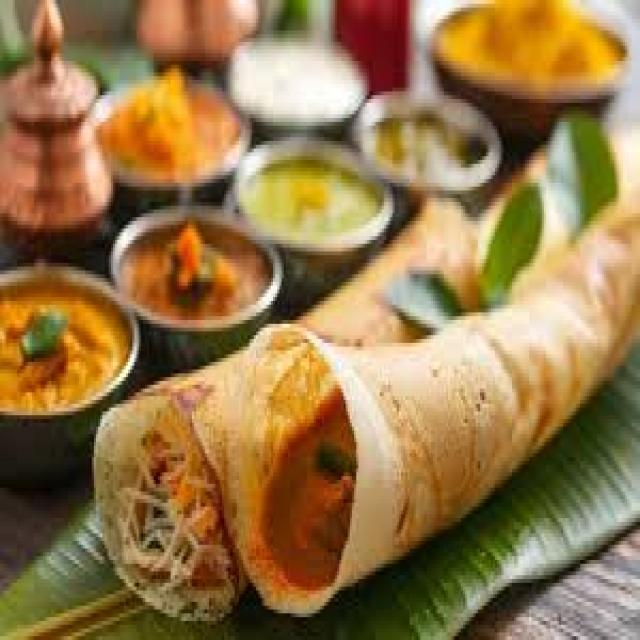DOSA: (83, 187, 638, 610)
